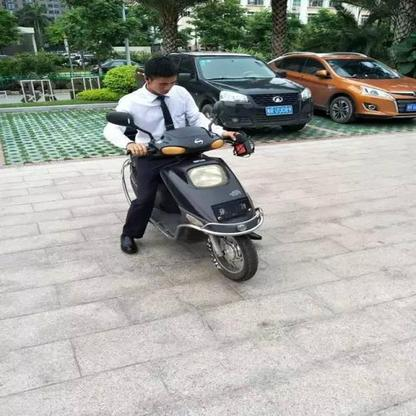target: (101, 57, 265, 287)
